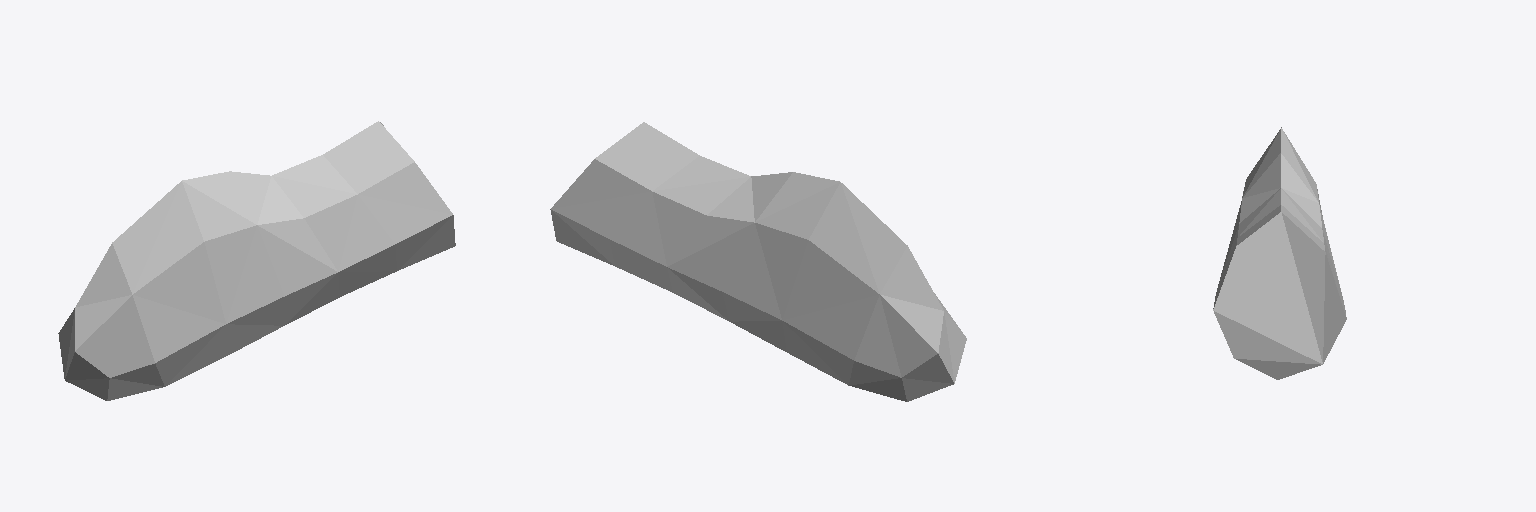
The model's file is cat_model-right-hand.obj.
3 views of the same model, side by side, from view 1: azimuth 30°, elevation 25°; view 2: azimuth 150°, elevation 25°; view 3: azimuth 270°, elevation 25° (orthographic).
Parts seen in each view (by area): view 1: Plane.002; view 2: Plane.002; view 3: Plane.002.
Part boxes in pixels (x1,y1,x2,y2): Plane.002: (58,121,455,400); Plane.002: (550,122,966,401); Plane.002: (1213,127,1346,379).
Bounding box in the file's own units: 0.5737 × 0.3015 × 0.1748.